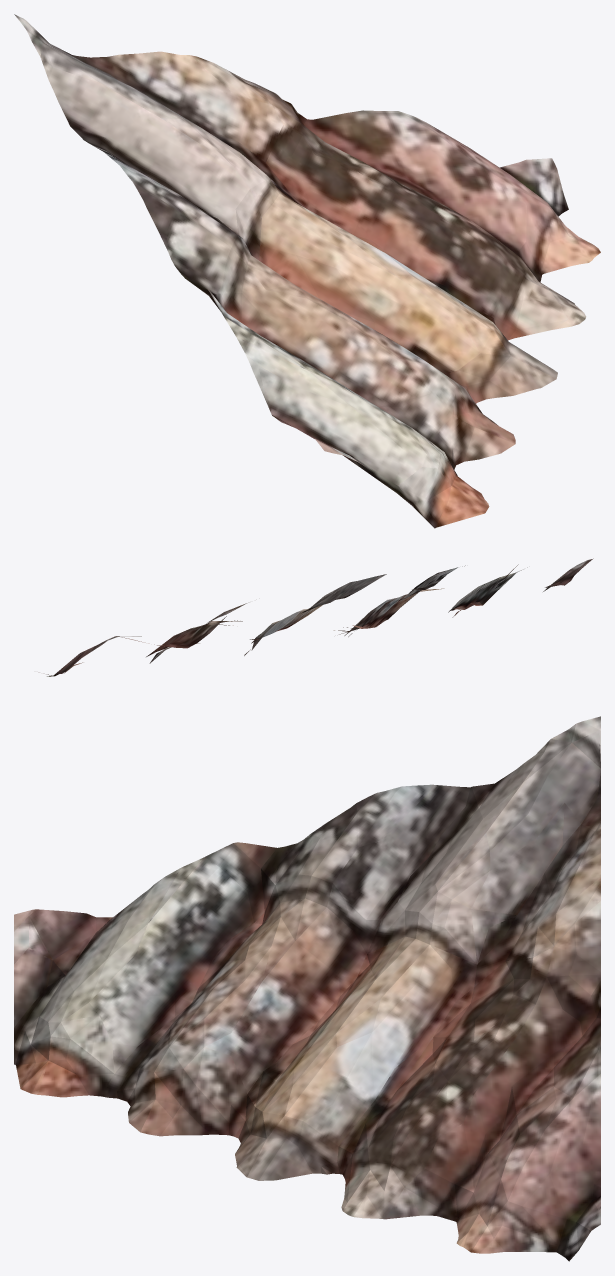
The picture shows the model from 3 angles, top to bottom: view 1: azimuth 30°, elevation 25°; view 2: azimuth 150°, elevation 25°; view 3: azimuth 270°, elevation 25°; orthographic projection. The views are drawn at different scales.
Bounding box in the file's own units: 0.8374 × 0.4678 × 0.8373.
2 materials, 2 textured.
